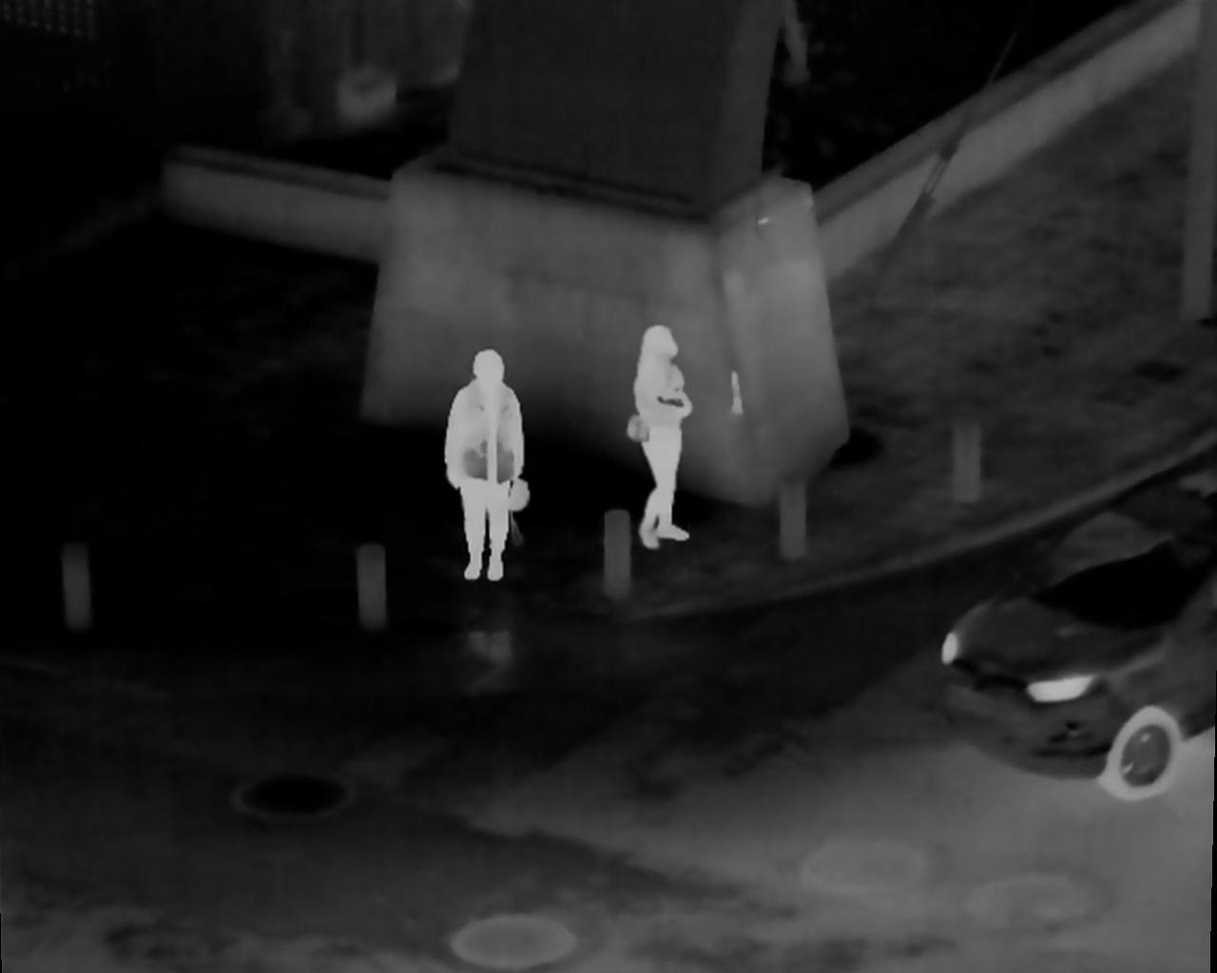person: (441, 344, 528, 588), (626, 324, 695, 549)
